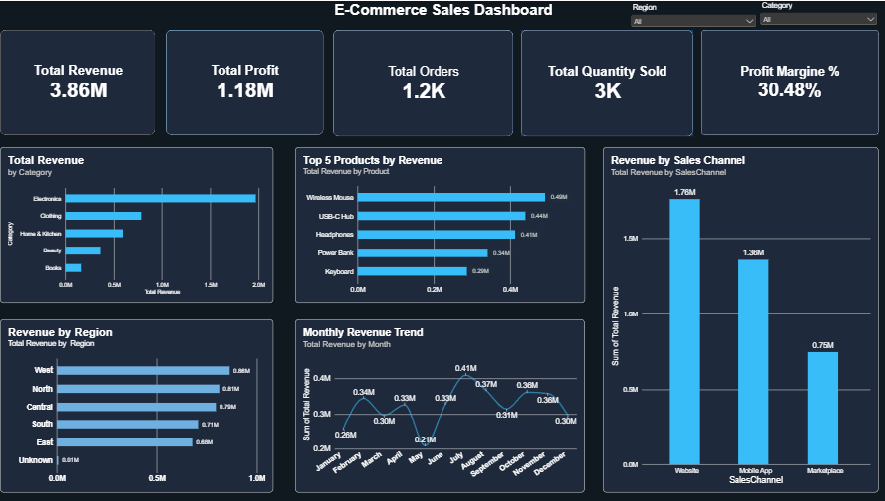

What the dashboard file says about the page in this screenshot:
{"tool":"powerbi","page":{"name":"Page 1","canvas":[1920,1080],"ordinal":0},"visuals":[{"type":"cardVisual","fields":{"Data":["Sum(ecommerce_sales.Revenue)"]},"box":[10,62.5,332.5,227.5],"z":0},{"type":"cardVisual","fields":{"Data":["Sum(ecommerce_sales.Profit)"]},"box":[365,62.5,337.5,227.5],"z":1000},{"type":"cardVisual","fields":{"Data":["Count(ecommerce_sales.OrderID)"]},"box":[722.5,62.5,385,230],"z":2000},{"type":"clusteredBarChart","fields":{"Category":["ecommerce_sales.Category"],"Y":["Sum(ecommerce_sales.Revenue)"]},"box":[10.6,314.6,584.6,335.9],"z":3000},{"type":"lineChart","title":"Monthly Revenue Trend","fields":{"Category":["ecommerce_sales.OrderDate.Variation.Date Hierarchy.Month"],"Y":["Sum(ecommerce_sales.Revenue)"]},"box":[642.5,687.5,617.5,372.5],"z":4000},{"type":"slicer","fields":{"Values":["ecommerce_sales.Category"]},"box":[1632.5,0,257.5,62.5],"z":5000},{"type":"cardVisual","fields":{"Data":["Sum(ecommerce_sales.Quantity)"]},"box":[1125,62.5,367.5,230],"z":6000},{"type":"clusteredColumnChart","title":" Revenue by Sales Channel","fields":{"Category":["ecommerce_sales.SalesChannel"],"Y":["Sum(ecommerce_sales.Revenue)"]},"box":[1300,315,590,745],"z":7000},{"type":"textbox","box":[10.1,0,1904.9,47.9],"z":8000},{"type":"slicer","fields":{"Values":["ecommerce_sales.Region"]},"box":[1354.3,4.3,278.5,57.4],"z":9000},{"type":"clusteredBarChart","title":"Top 5 Products by Revenue","fields":{"Category":["ecommerce_sales.Product"],"Y":["Sum(ecommerce_sales.Revenue)"]},"box":[642,314.6,618.7,335.9],"z":10000},{"type":"cardVisual","fields":{"Data":["ecommerce_sales.Profit Margine %"]},"box":[1510,62.5,380,227.5],"z":10001},{"type":"clusteredBarChart","title":" Revenue by Region","fields":{"Category":["ecommerce_sales.Region"],"Y":["Sum(ecommerce_sales.Total Revenue)"]},"box":[10,687.5,585,372.5],"z":10002}]}

Visuals, with their boxes in screenshot pixels (x1, y1, x2, y2), scaled from the page's 1920x1080 canvas onto the 885x501 screenshot:
cardVisual - Sum(ecommerce_sales.Revenue): 5 29 158 135
cardVisual - Sum(ecommerce_sales.Profit): 168 29 324 135
cardVisual - Count(ecommerce_sales.OrderID): 333 29 510 136
clusteredBarChart - ecommerce_sales.Category x Sum(ecommerce_sales.Revenue): 5 146 274 302
"Monthly Revenue Trend" lineChart: 296 319 581 492
slicer - ecommerce_sales.Category: 752 0 871 29
cardVisual - Sum(ecommerce_sales.Quantity): 519 29 688 136
" Revenue by Sales Channel" clusteredColumnChart: 599 146 871 492
textbox: 5 0 883 22
slicer - ecommerce_sales.Region: 624 2 753 29
"Top 5 Products by Revenue" clusteredBarChart: 296 146 581 302
cardVisual - ecommerce_sales.Profit Margine %: 696 29 871 135
" Revenue by Region" clusteredBarChart: 5 319 274 492
